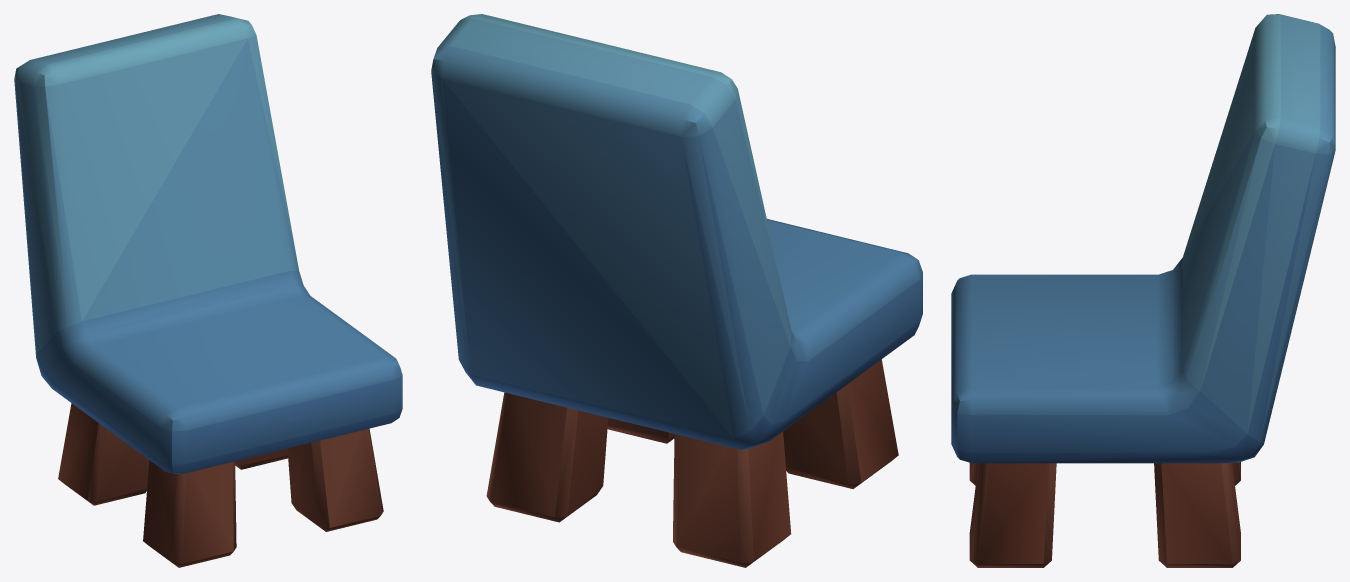
The model's file is kk_furniture_chair_C.glb.
The picture shows the model from 3 angles, left to right: view 1: azimuth 30°, elevation 25°; view 2: azimuth 150°, elevation 25°; view 3: azimuth 270°, elevation 25°; orthographic projection. The views are drawn at different scales.
Visible parts, largest first — view 1: kk_furniture_chair_C; view 2: kk_furniture_chair_C; view 3: kk_furniture_chair_C.
Part boxes in pixels (x1,y1,x2,y2): kk_furniture_chair_C: (14, 14, 402, 567); kk_furniture_chair_C: (431, 14, 922, 567); kk_furniture_chair_C: (951, 14, 1335, 567).
Size of the model in its own units: 0.75 by 1.2 by 0.9356.
